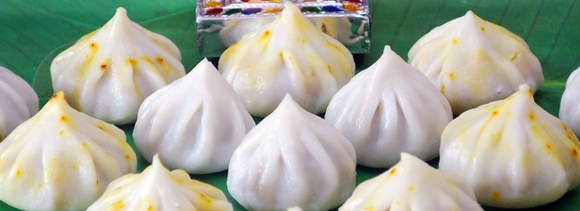modak: (429, 86, 580, 207), (134, 47, 269, 178), (3, 87, 148, 206), (334, 37, 459, 160), (229, 94, 359, 211), (49, 9, 185, 115), (412, 8, 557, 96)
